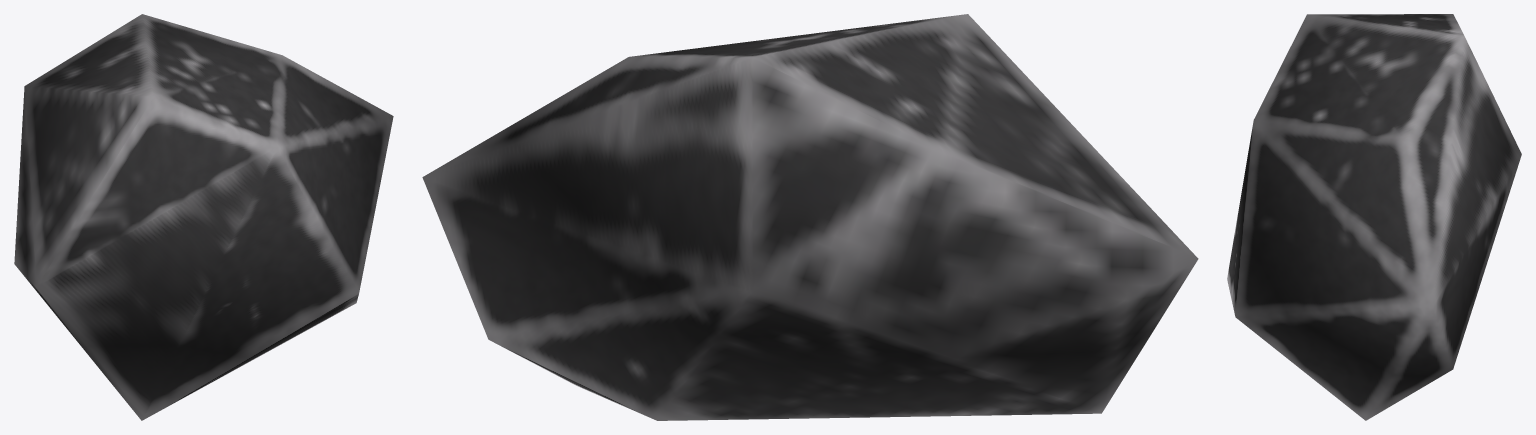
Rendered from LavastoneParticleLP.fbx.
3 views of the same model, side by side, from view 1: azimuth 30°, elevation 25°; view 2: azimuth 150°, elevation 25°; view 3: azimuth 270°, elevation 25° (orthographic). The views are drawn at different scales.
Visible parts, largest first — view 1: LavastoneParticle.062; view 2: LavastoneParticle.062; view 3: LavastoneParticle.062.
Boxes of the visible parts, x1,y1,x2,y2 form: LavastoneParticle.062: (14,14,393,420); LavastoneParticle.062: (422,14,1198,420); LavastoneParticle.062: (1227,14,1521,420).
Size of the model in its own units: 87.58 by 56.3 by 49.92.
